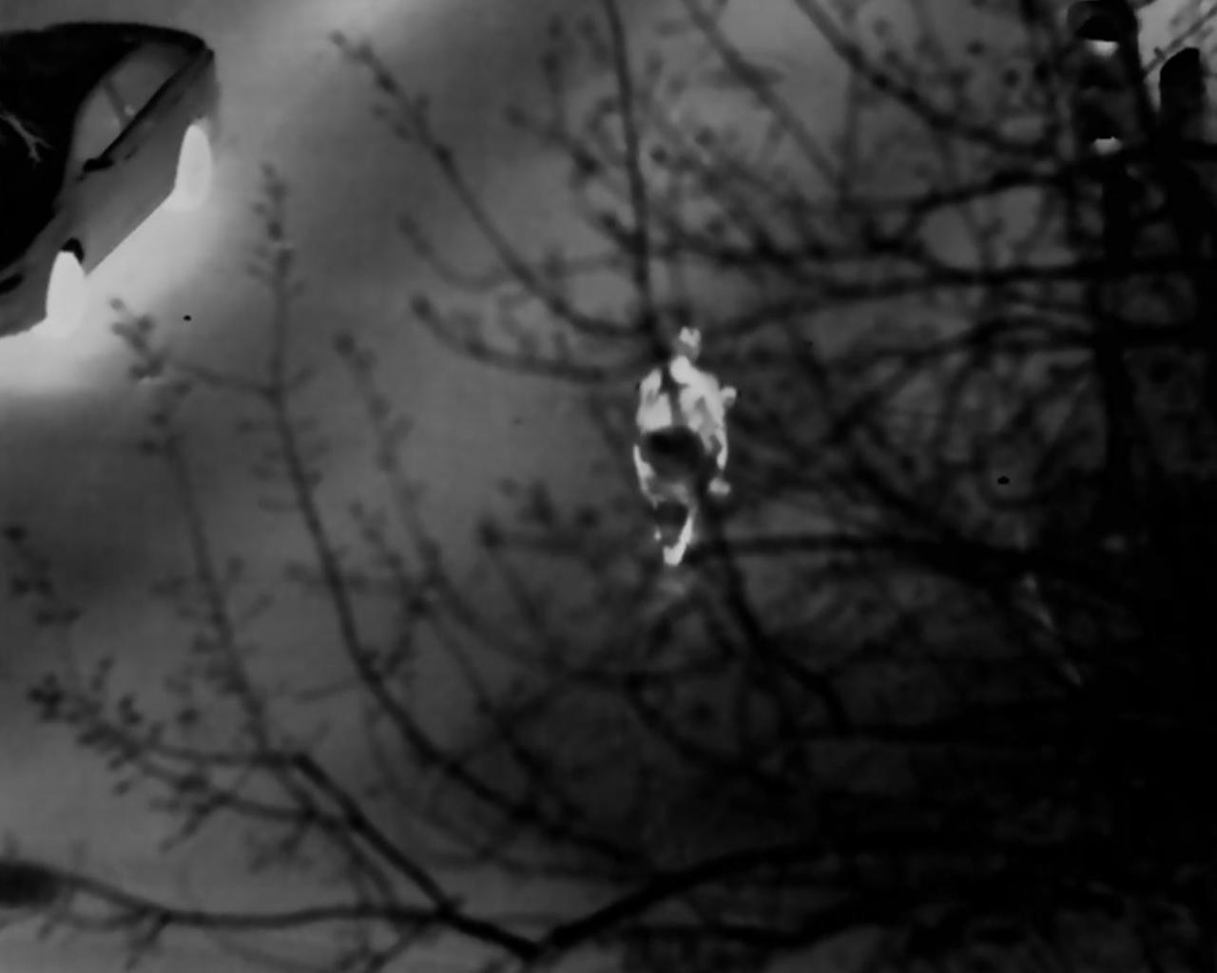person: (641, 325, 745, 551)
